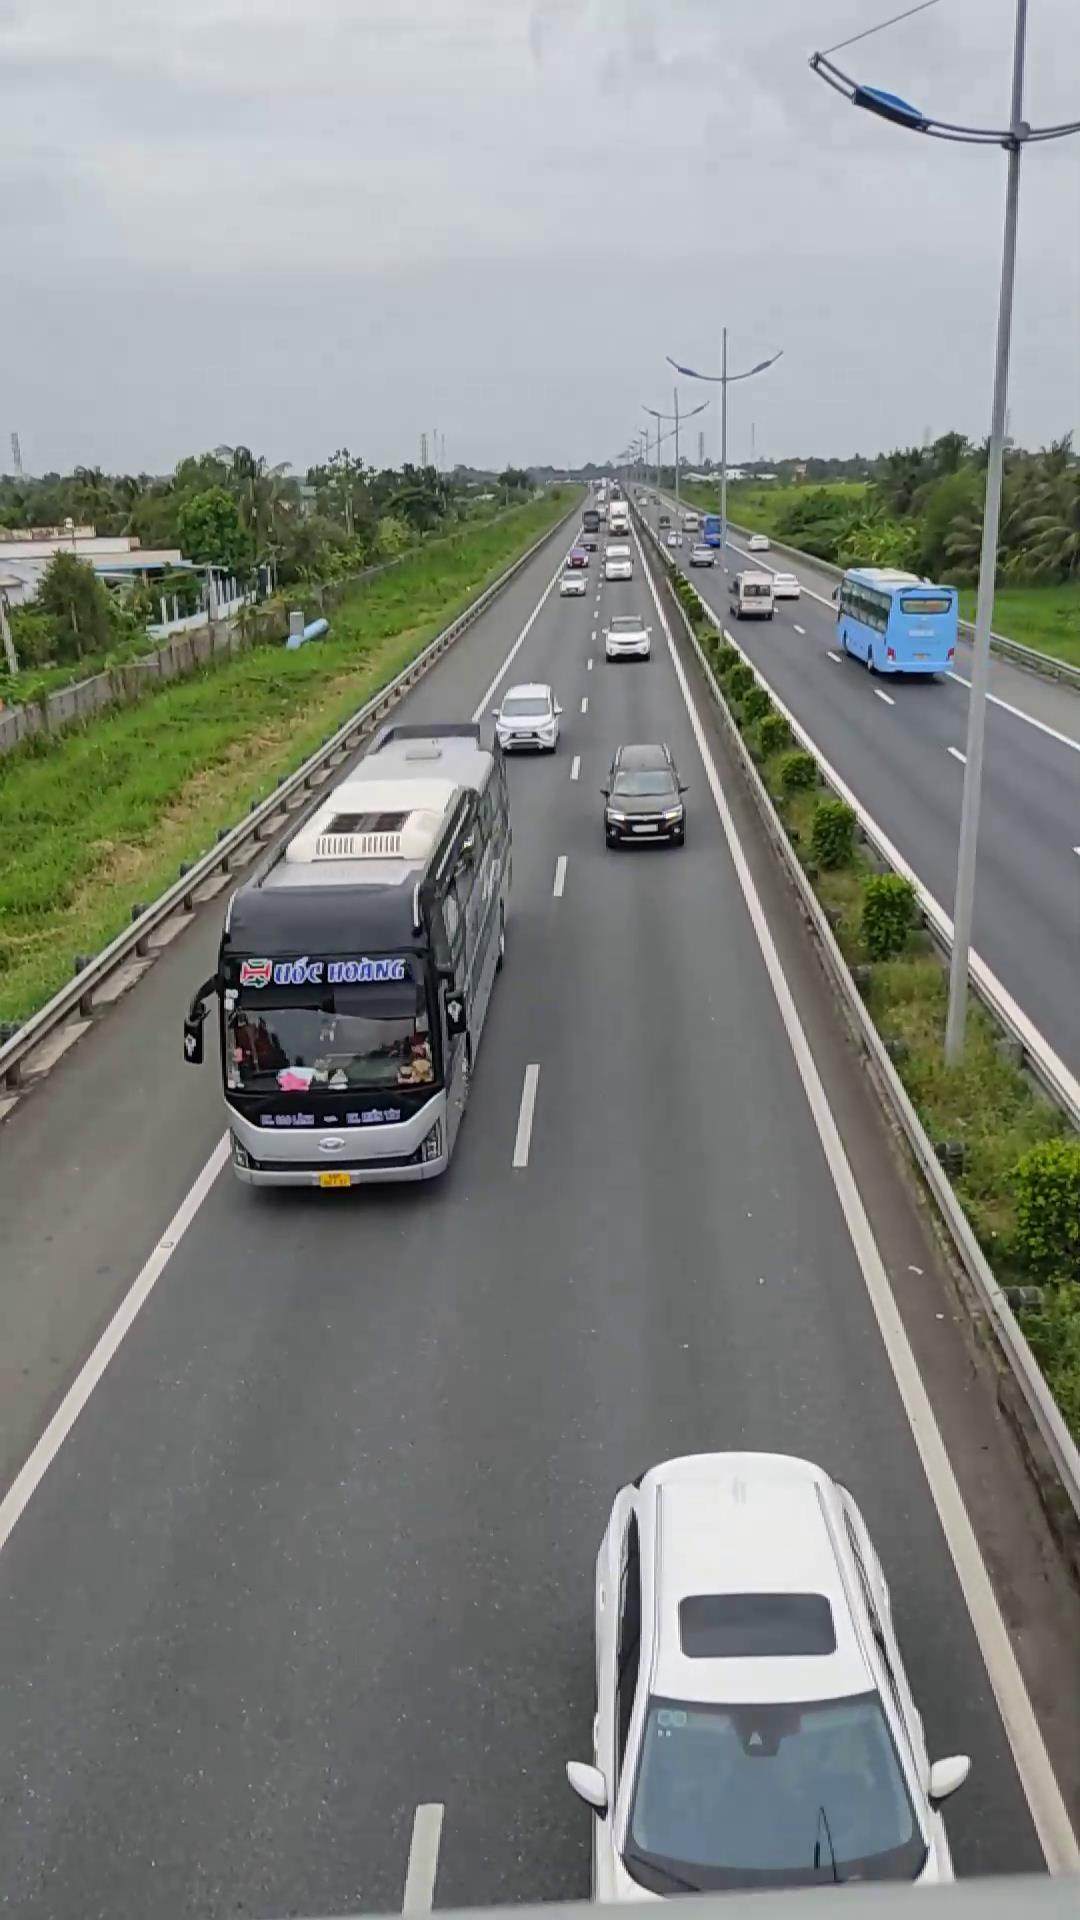bus: (186, 729, 516, 1192)
car: (570, 1449, 962, 1892), (599, 743, 689, 847), (486, 682, 562, 752)
